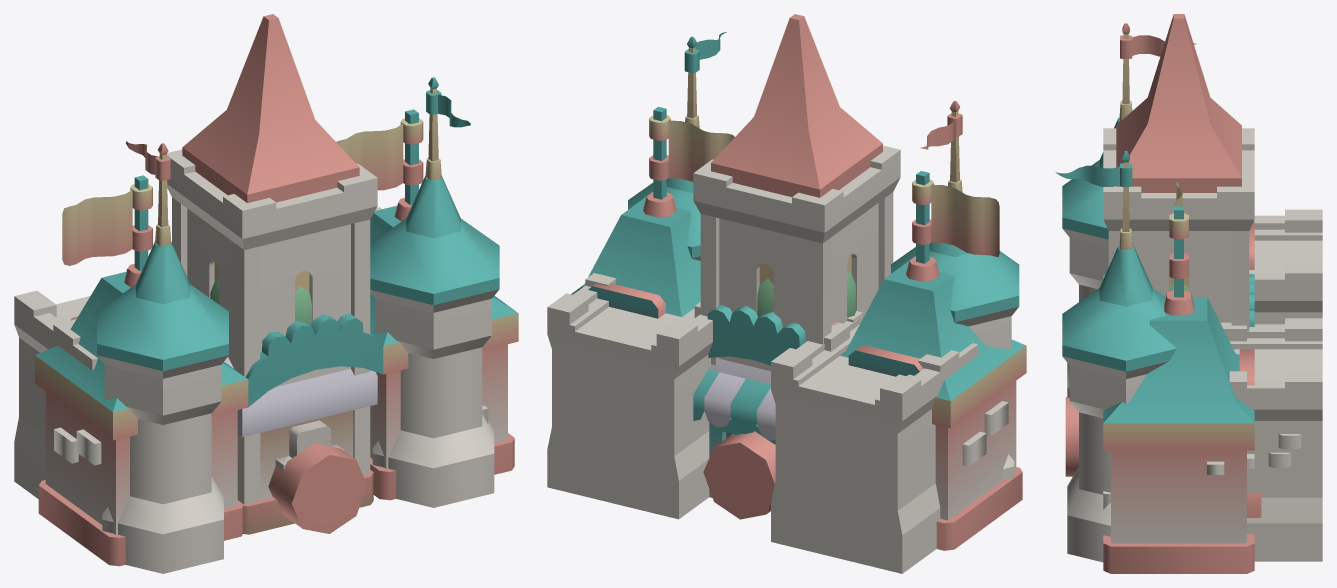
File: park-kit.glb
The picture shows the model from 3 angles, left to right: view 1: azimuth 30°, elevation 25°; view 2: azimuth 150°, elevation 25°; view 3: azimuth 270°, elevation 25°; orthographic projection. The views are drawn at different scales.
Parts seen in each view (by area): view 1: castle, entrance, stallFood, boat, treeTall; view 2: castle, entrance, stallFood, boat, treeTall; view 3: castle, entrance, boat.
Part boxes in pixels (x1=…): castle: x1=14, y1=14, x2=499, y2=573; entrance: x1=35, y1=109, x2=518, y2=566; stallFood: x1=224, y1=357, x2=377, y2=534; boat: x1=268, y1=420, x2=367, y2=533; treeTall: x1=210, y1=277, x2=311, y2=325; castle: x1=547, y1=14, x2=1019, y2=573; entrance: x1=571, y1=106, x2=1026, y2=550; stallFood: x1=693, y1=322, x2=837, y2=497; boat: x1=703, y1=431, x2=775, y2=519; treeTall: x1=757, y1=270, x2=855, y2=317; castle: x1=1055, y1=14, x2=1322, y2=562; entrance: x1=1103, y1=182, x2=1261, y2=573; boat: x1=1065, y1=397, x2=1078, y2=476.
Bounding box in the file's own units: 3.09 × 3.44 × 1.77.
